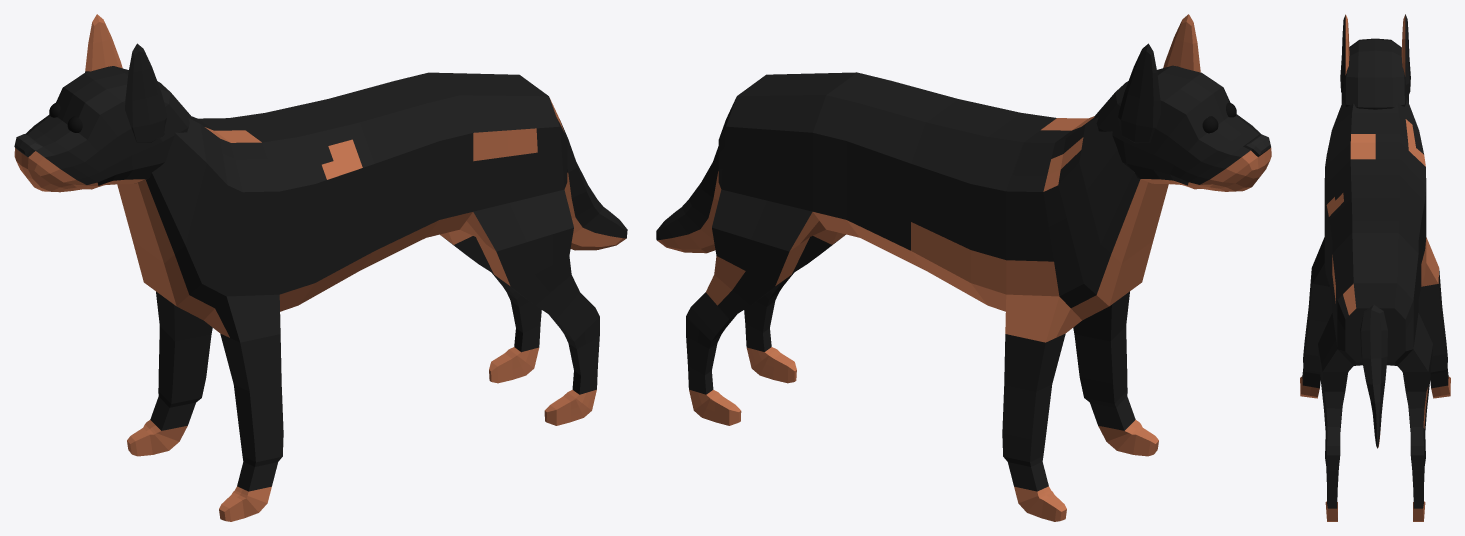
The model's file is Daisy em pé.fbx.
3 views of the same model, side by side, from view 1: azimuth 30°, elevation 25°; view 2: azimuth 150°, elevation 25°; view 3: azimuth 270°, elevation 25° (orthographic). The views are drawn at different scales.
Visible parts, largest first — view 1: Cube.004; view 2: Cube.004; view 3: Cube.004.
Part boxes in pixels (x1=…): Cube.004: x1=14, y1=14, x2=627, y2=521; Cube.004: x1=656, y1=14, x2=1271, y2=521; Cube.004: x1=1300, y1=14, x2=1450, y2=521.
Bounding box in the file's own units: 838 × 624 × 242.
